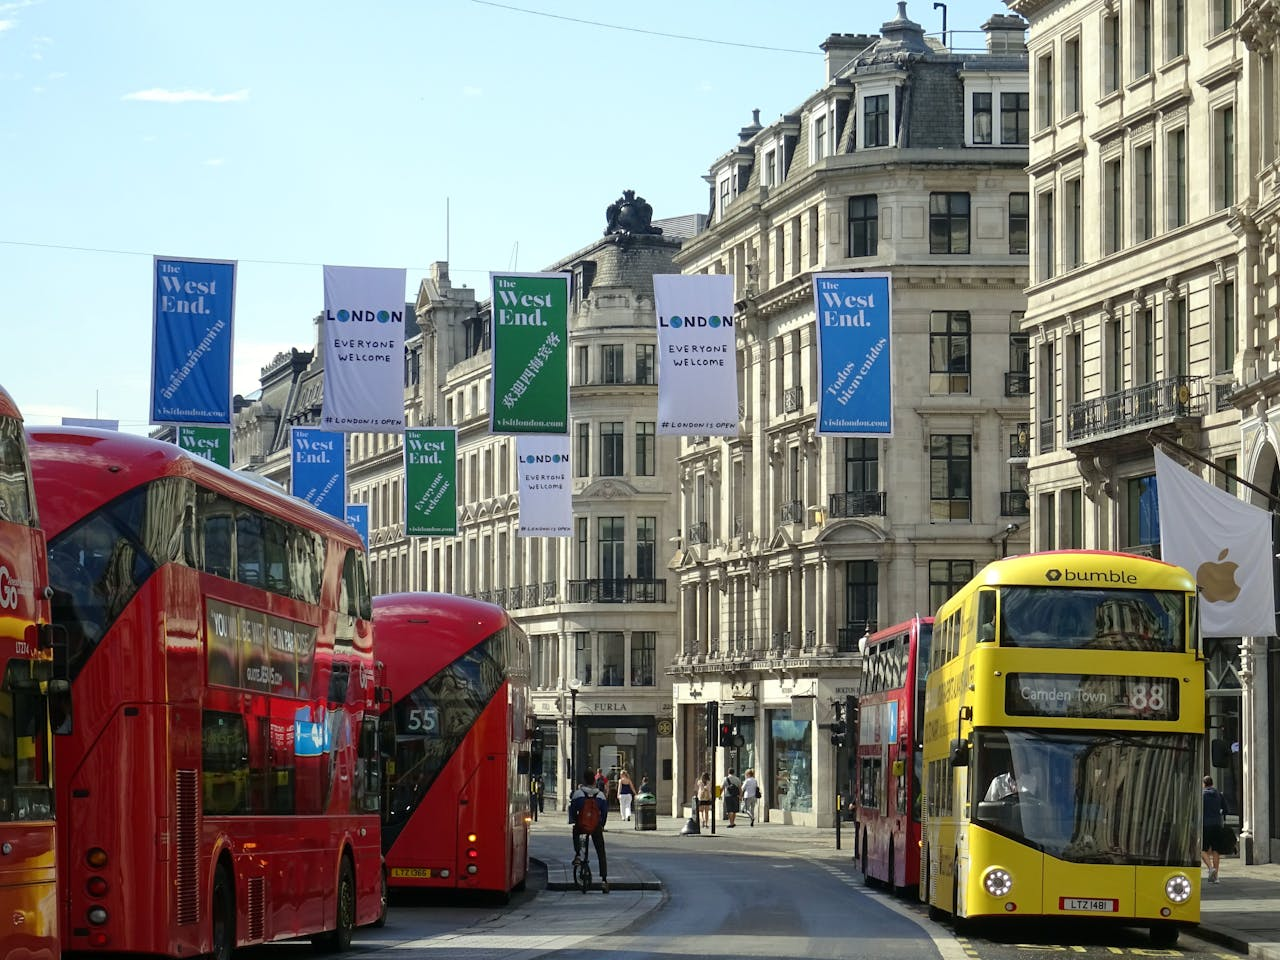bus: (27, 404, 403, 942), (833, 533, 1218, 942), (377, 558, 551, 921)
